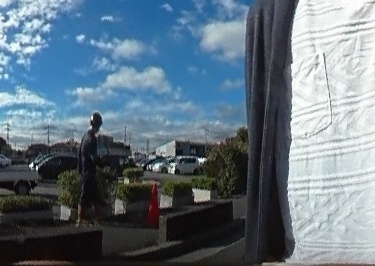person: (77, 112, 103, 222)
